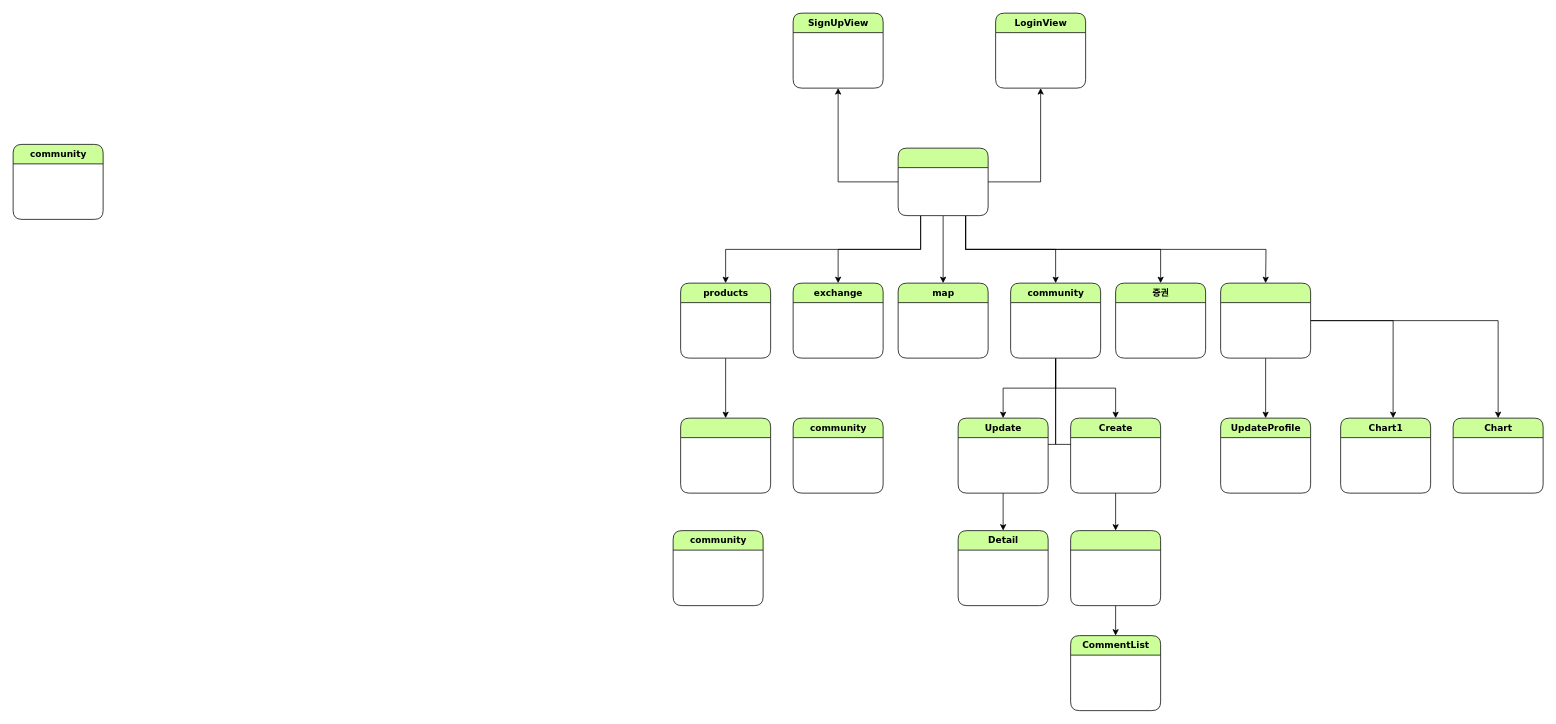
The diagram is 1556 pixels wide and 724 high, and some of its shapes have lost their labels. The shapes that lost their labels are listed below. From the top down, each one's centre as x and y in pixels, then its label:
At point (942, 181): "App.vue".
At point (1265, 320): "Profile".
At point (725, 455): "ProductsDetail".
At point (1115, 568): "ArticleList".
